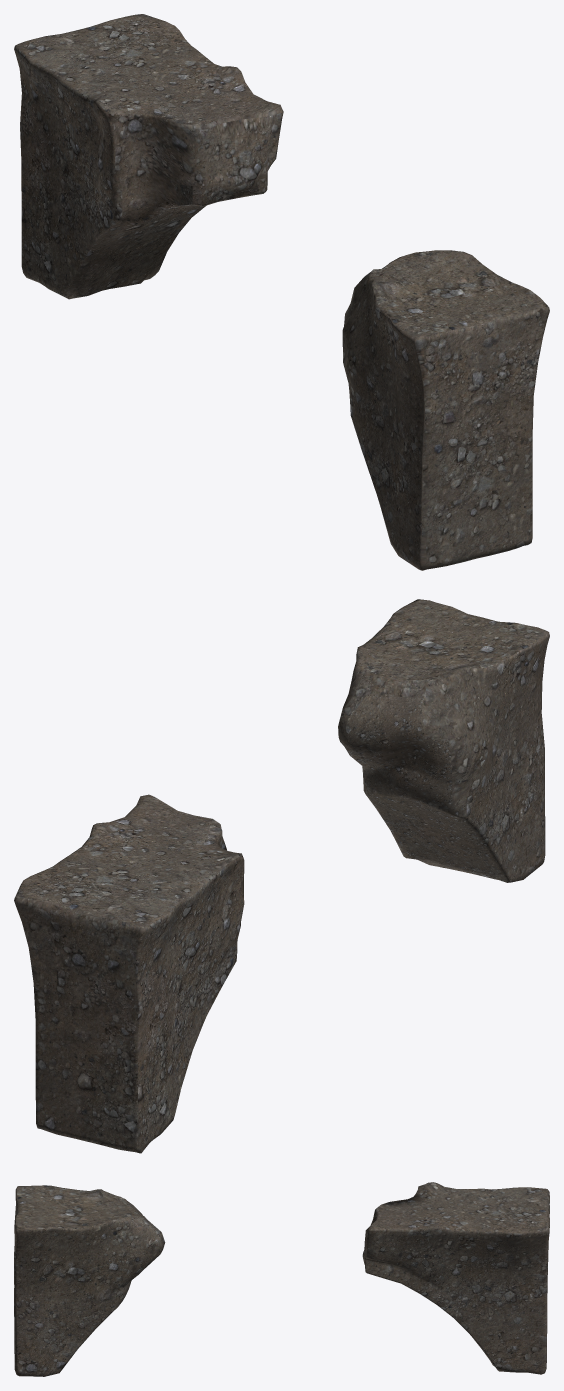
Rendered from cave_bridge_broken.dae.
The picture shows the model from 3 angles, top to bottom: view 1: azimuth 30°, elevation 25°; view 2: azimuth 150°, elevation 25°; view 3: azimuth 270°, elevation 25°; orthographic projection. The views are drawn at different scales.
Visible parts, largest first — view 1: cave_bridge_broken; view 2: cave_bridge_broken; view 3: cave_bridge_broken.
Boxes of the visible parts, bbox=[...] form: cave_bridge_broken: bbox=[14, 14, 549, 570]; cave_bridge_broken: bbox=[14, 599, 549, 1153]; cave_bridge_broken: bbox=[14, 1182, 549, 1376].
Size of what is drawn, in the model's own units: 2.13 by 3.36 by 10.32.
